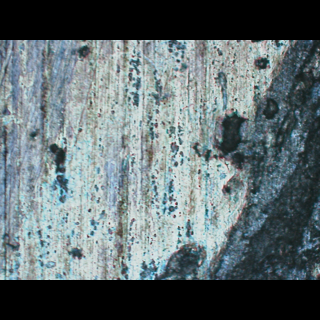d: (150, 40, 319, 279)
